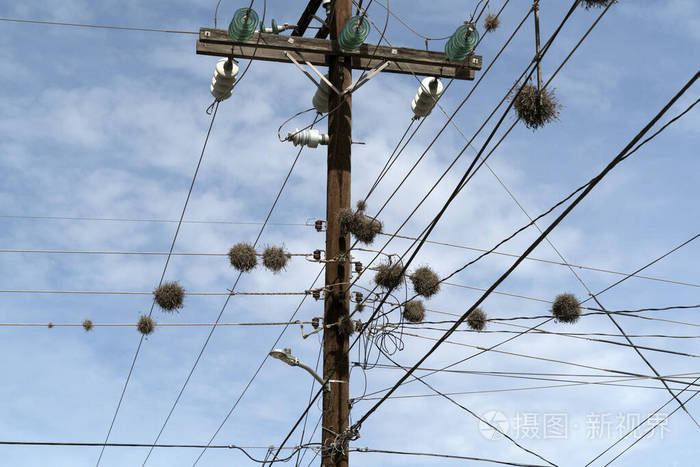insulator: (444, 23, 481, 61), (410, 76, 440, 118), (210, 63, 240, 101), (336, 17, 369, 51), (227, 8, 259, 43), (311, 78, 338, 115)
